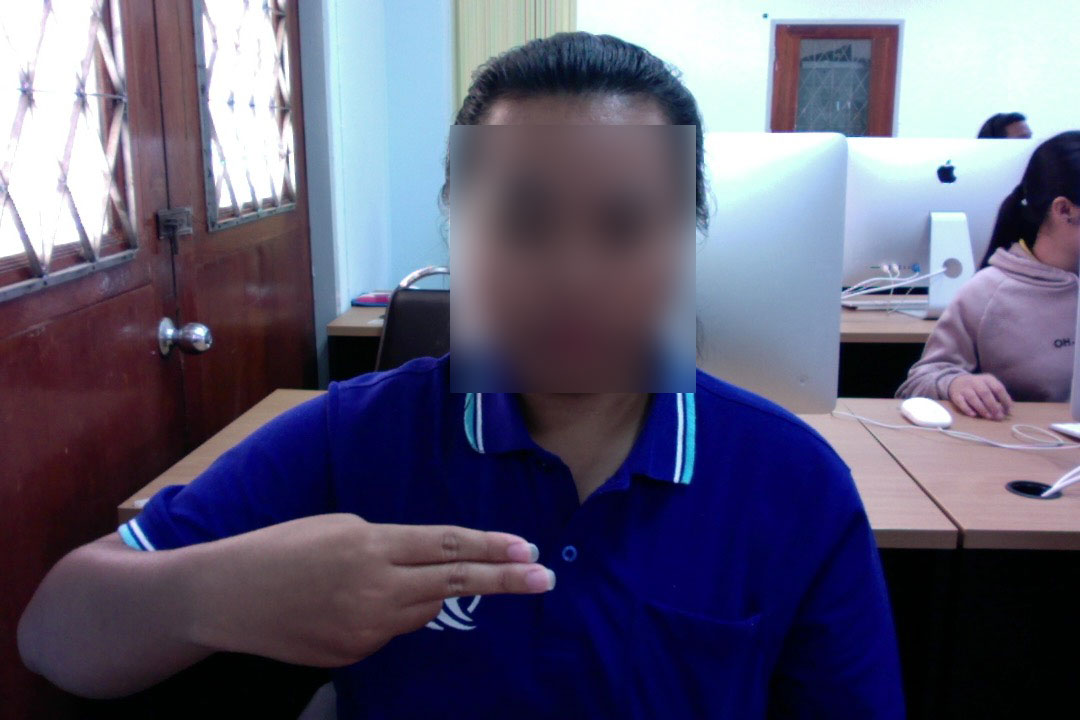hor: (197, 501, 566, 675)
